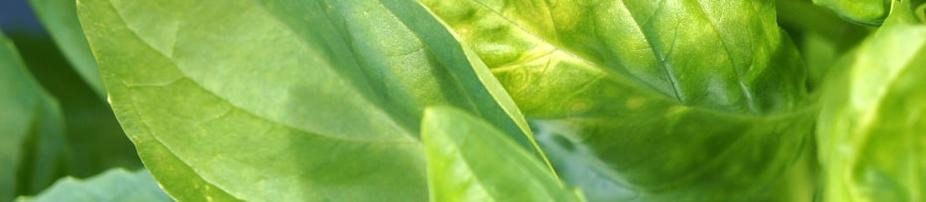Tomato leaf: (308, 0, 816, 202), (75, 0, 510, 202)
